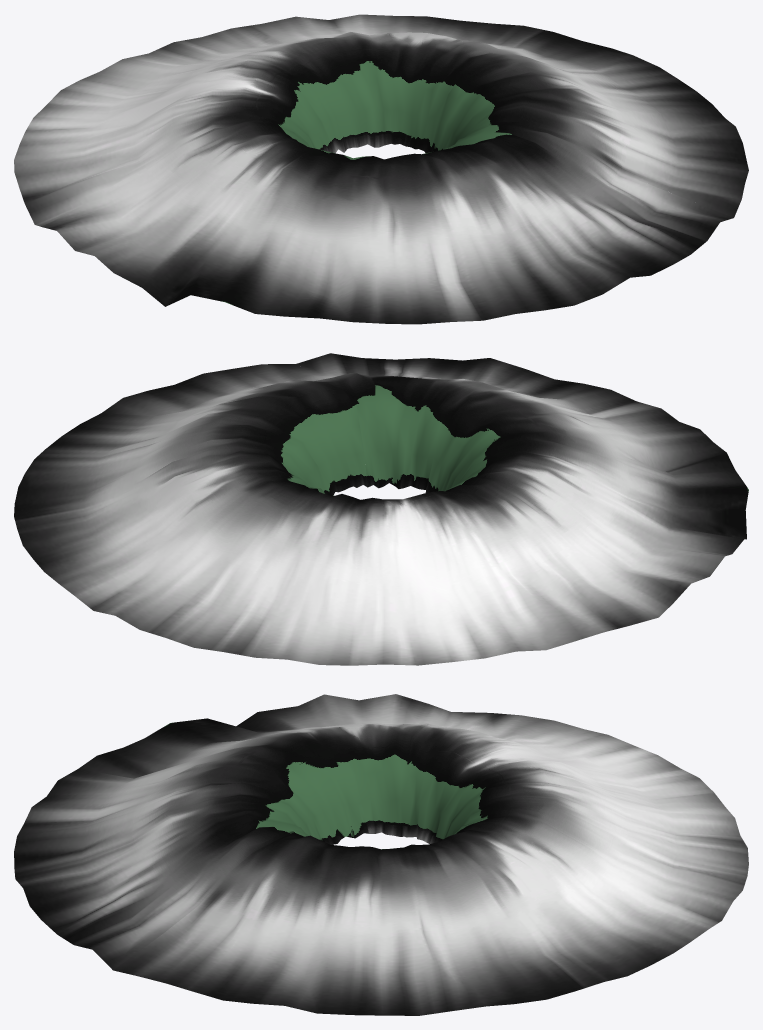
The model's file is shuihua_1.FBX.
3 views of the same model, one above another, from view 1: azimuth 30°, elevation 25°; view 2: azimuth 150°, elevation 25°; view 3: azimuth 270°, elevation 25° (orthographic).
Visible parts, largest first — view 1: Plane001; view 2: Plane001; view 3: Plane001.
Boxes of the visible parts, bbox=[...] form: Plane001: bbox=[14, 14, 748, 324]; Plane001: bbox=[14, 353, 748, 665]; Plane001: bbox=[14, 694, 748, 1015].
Size of the model in its own units: 2844 by 344 by 2847.
